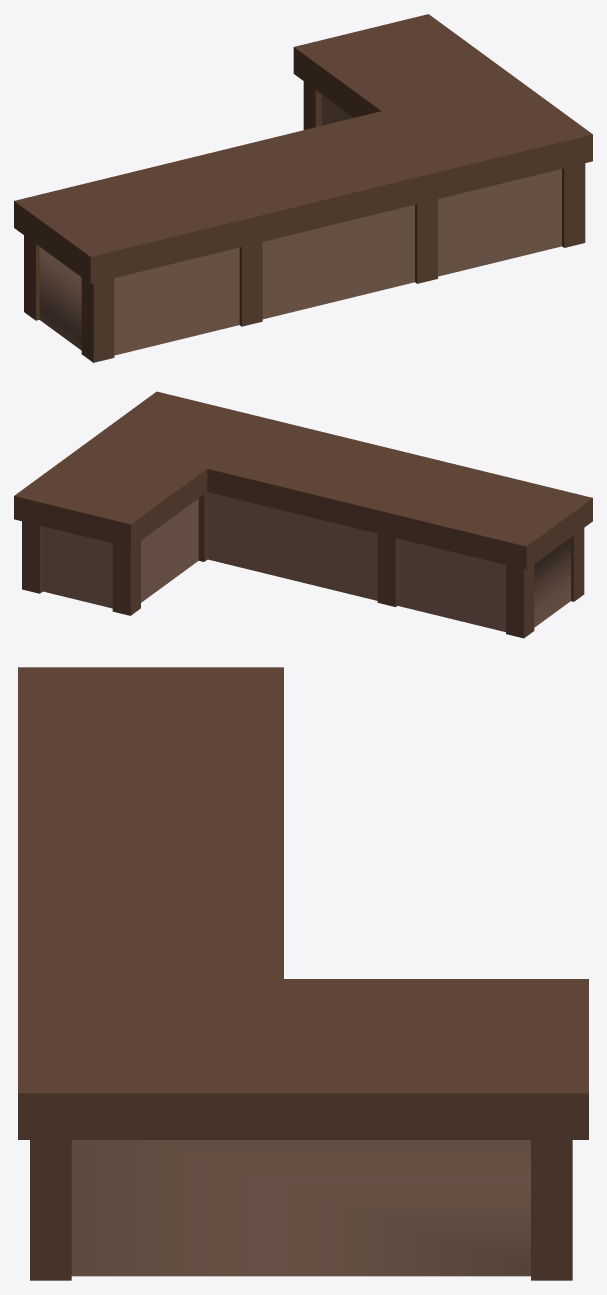
File: Desk 02.FBX
The picture shows the model from 3 angles, top to bottom: view 1: azimuth 30°, elevation 25°; view 2: azimuth 150°, elevation 25°; view 3: azimuth 270°, elevation 25°; orthographic projection. The views are drawn at different scales.
Visible parts, largest first — view 1: Desk 02; view 2: Desk 02; view 3: Desk 02.
Part boxes in pixels (box(x1,y1,x2,y2)): Desk 02: box(14, 14, 592, 362); Desk 02: box(14, 391, 592, 638); Desk 02: box(18, 667, 588, 1280).
Size of the model in its own units: 356 by 74.52 by 202.
